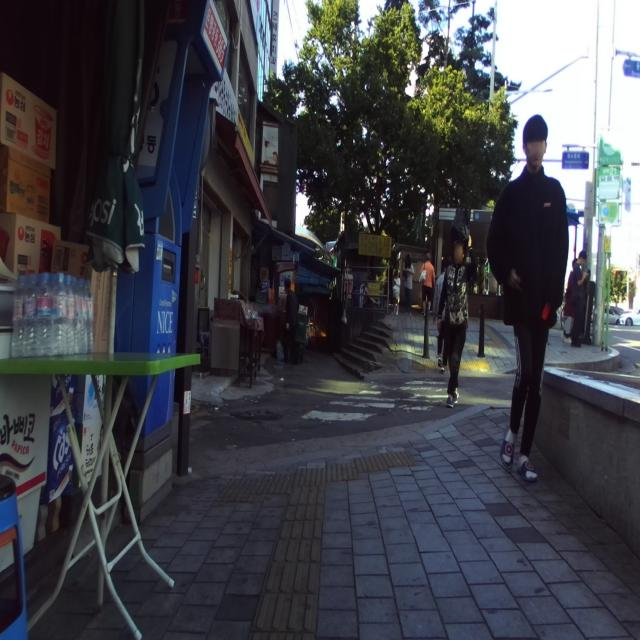횡단보도: (300, 379, 449, 420)
